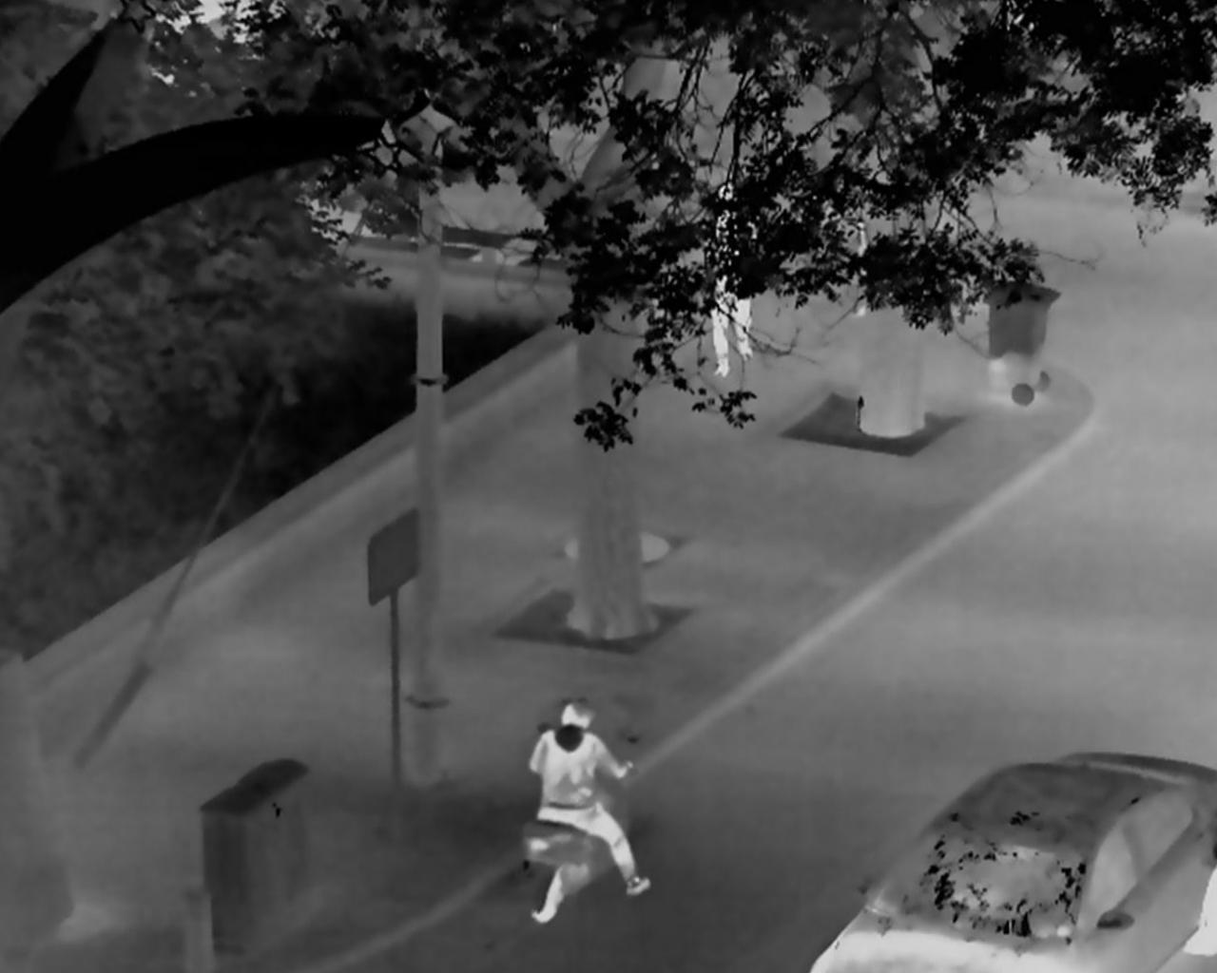person: (528, 698, 652, 896), (710, 182, 757, 378)
